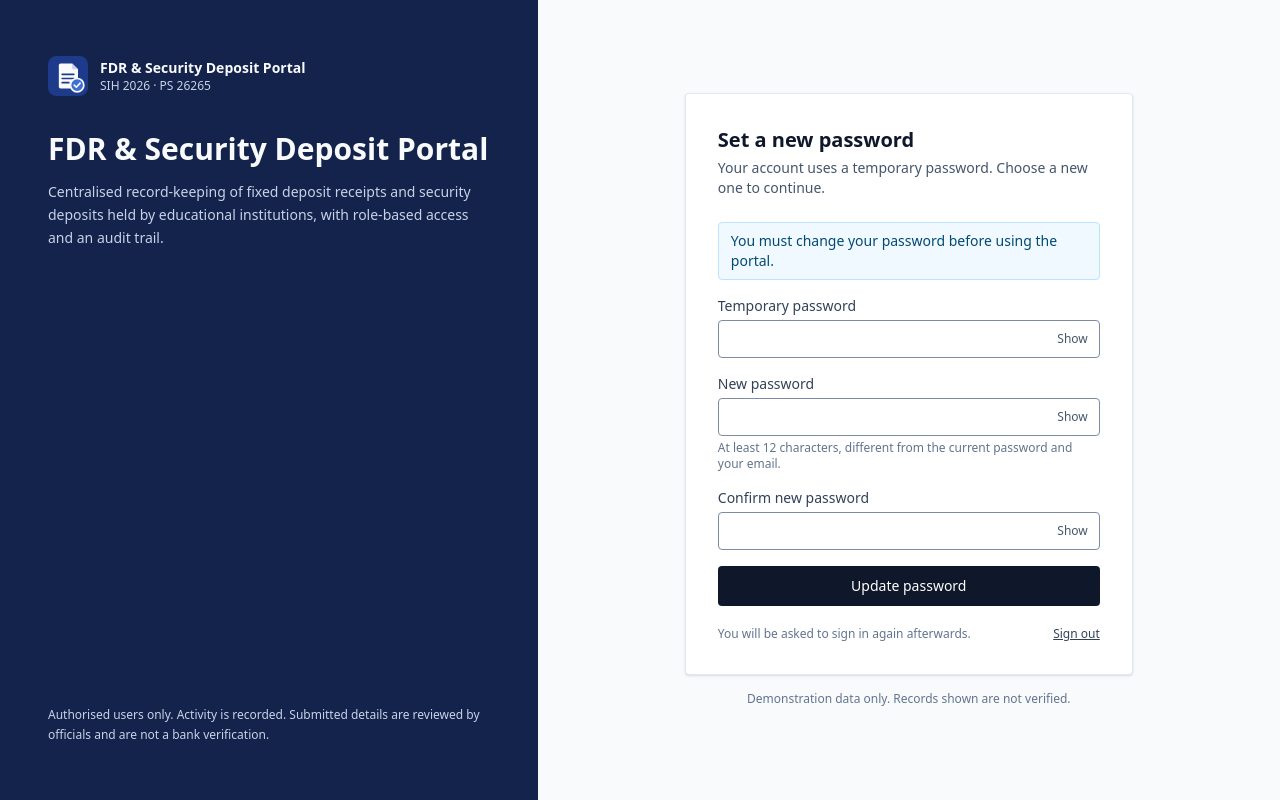
Test: forced password change screen › lets the user sign out instead
Expected: the heading "Set a new password" is shown, [718,126,914,153]
Step 1. Click the button "Sign out" → (1076, 634), box [1053,626,1100,642]
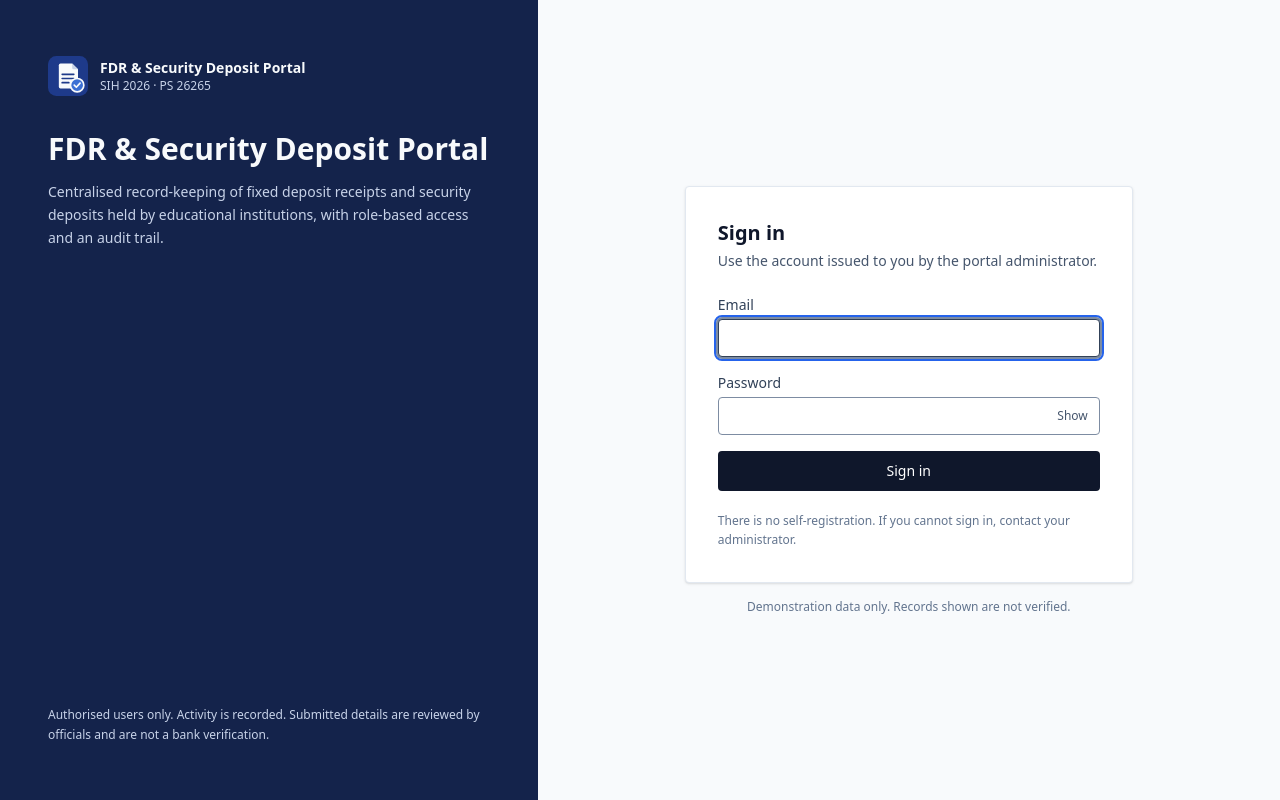
Now the heading "Sign in" is shown, box [718,218,785,246]
